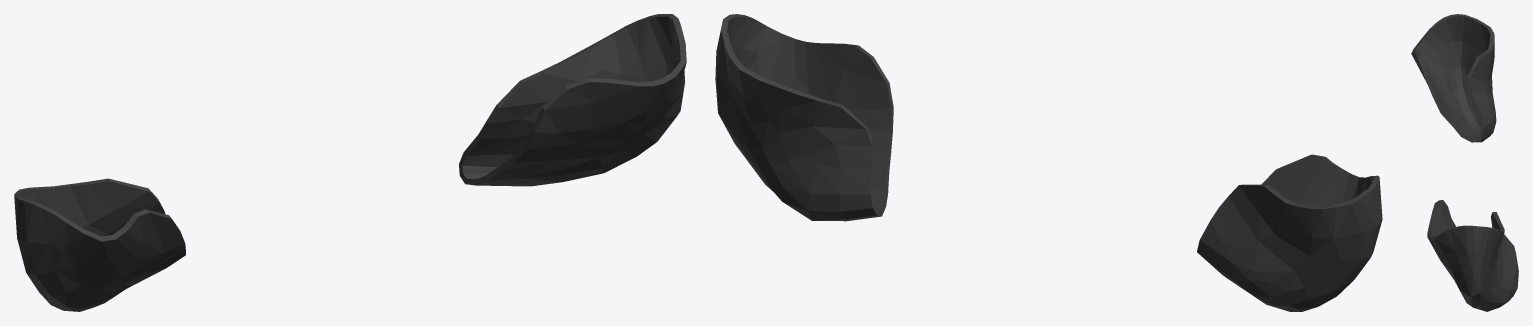
Rendered from c7_caudal_articular_process.glb.
3 renders of one model, left to right at view 1: azimuth 30°, elevation 25°; view 2: azimuth 150°, elevation 25°; view 3: azimuth 270°, elevation 25°, orthographic. The views are drawn at different scales.
Visible parts, largest first — view 1: c7_caudal_articular_process; view 2: c7_caudal_articular_process; view 3: c7_caudal_articular_process.
Part boxes in pixels (<box>): c7_caudal_articular_process: <box>14,14,686,311</box>; c7_caudal_articular_process: <box>715,14,1382,311</box>; c7_caudal_articular_process: <box>1411,14,1518,311</box>.
Size of the model in its own units: 29.08 by 6.55 by 5.77.
Materials: 1 (1 with a texture image).
